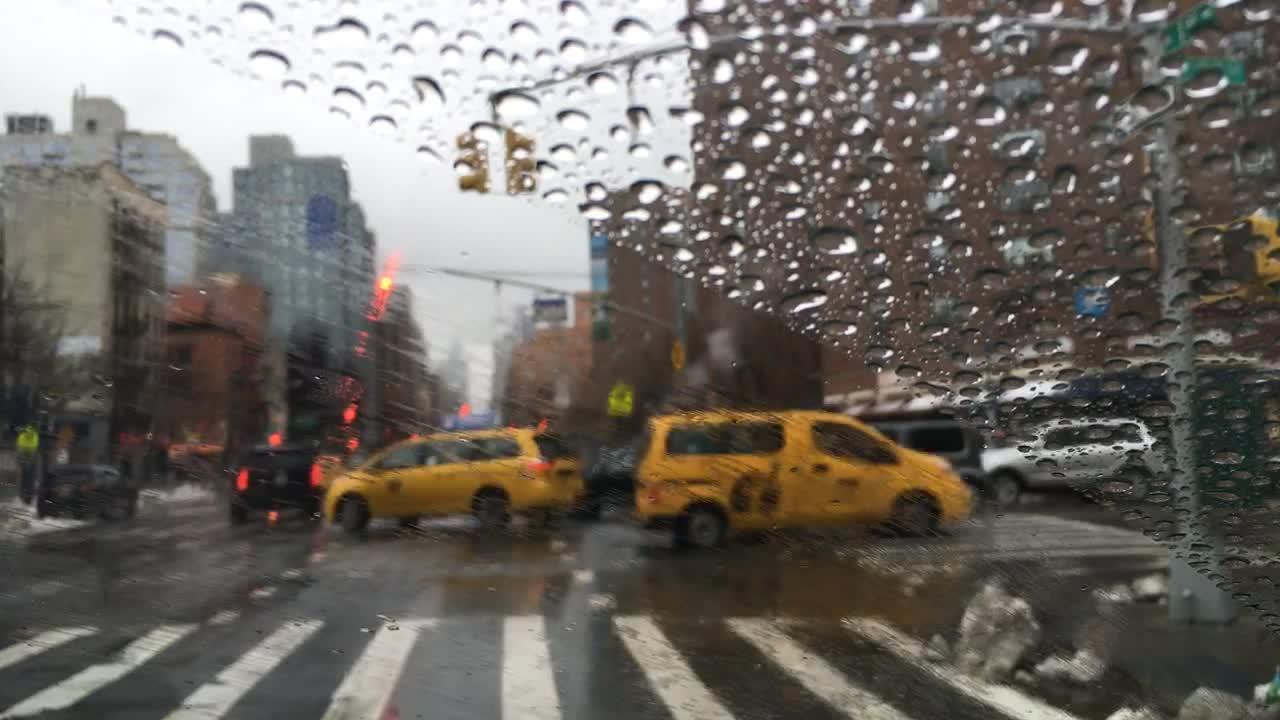car: (630, 410, 974, 547), (321, 426, 590, 534), (979, 414, 1157, 506), (855, 415, 981, 491), (232, 441, 318, 522), (37, 464, 138, 526), (581, 444, 640, 511), (315, 455, 343, 492)
traffic light: (1223, 217, 1276, 284), (452, 132, 489, 194), (502, 128, 535, 193), (380, 274, 390, 305)
traffic sign: (1155, 3, 1212, 57), (1166, 61, 1246, 91), (607, 379, 632, 415), (531, 300, 566, 320), (667, 343, 686, 371), (16, 426, 36, 447), (593, 321, 607, 341)
